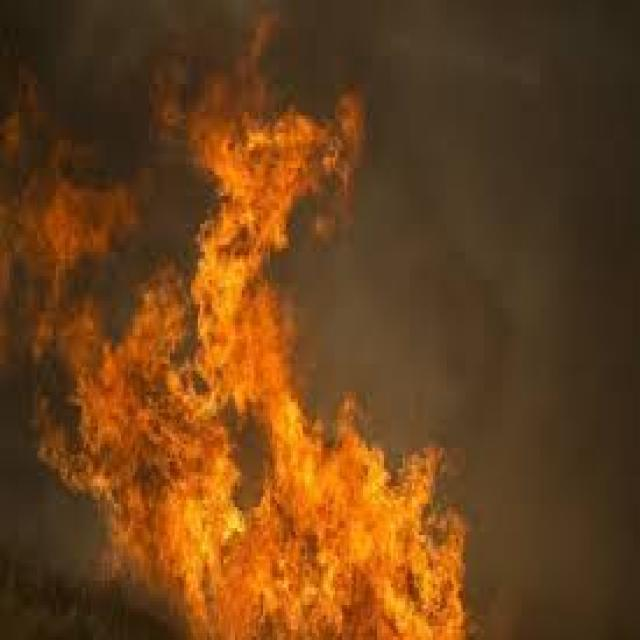Fire: (224, 415, 459, 640), (94, 306, 227, 525), (191, 62, 310, 245)
Smoke: (410, 10, 602, 394), (487, 431, 625, 622), (56, 28, 130, 128)
